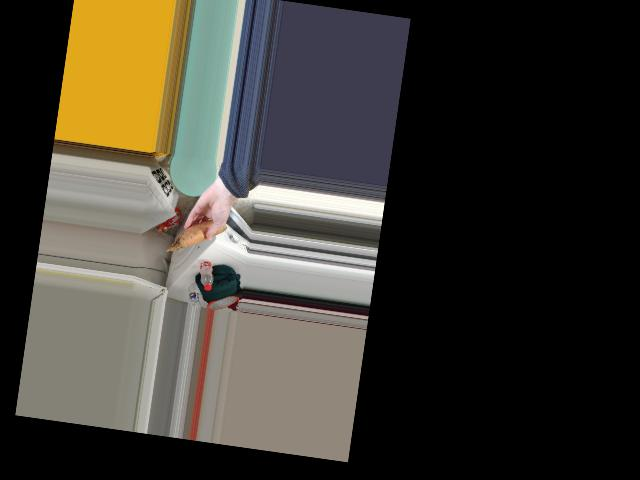sweet_potato: (182, 219, 221, 248)
